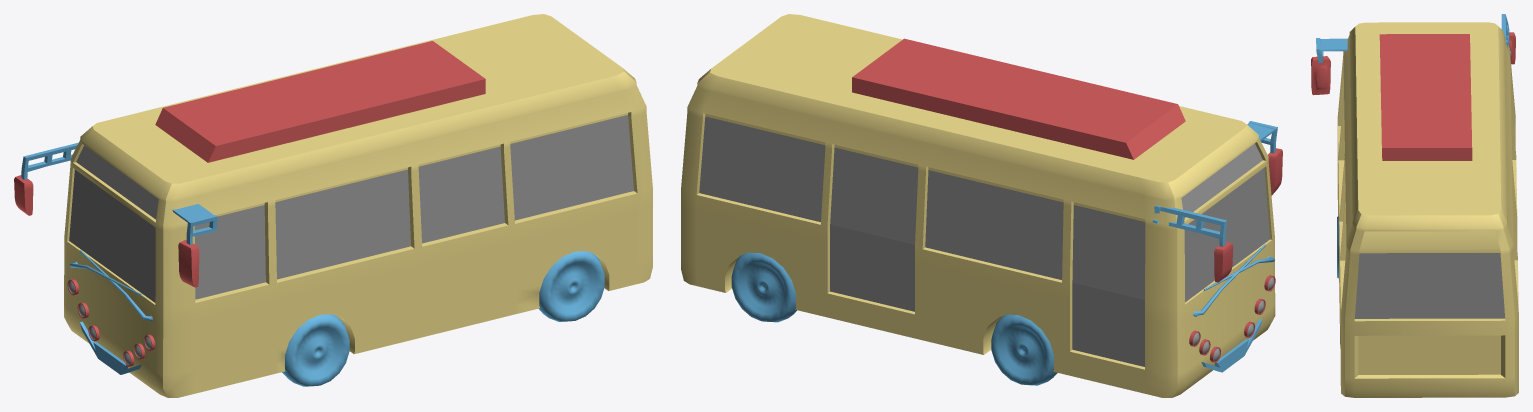
The model's file is che2.FBX.
3 views of the same model, side by side, from view 1: azimuth 30°, elevation 25°; view 2: azimuth 150°, elevation 25°; view 3: azimuth 270°, elevation 25° (orthographic). The views are drawn at different scales.
Visible parts, largest first — view 1: newbus13, 对象019, newbus12, newbus07, newbus11, newbus10, newbus00, newbus06, newbus05; view 2: newbus13, 对象019, newbus12, newbus07, newbus11, newbus10, newbus00, newbus06, newbus05; view 3: newbus13, newbus12, 对象019, newbus10, newbus11.
Part boxes in pixels (<box>): newbus13: <box>64,14,652,397</box>; 对象019: <box>69,115,633,302</box>; newbus12: <box>155,41,485,162</box>; newbus07: <box>282,251,604,386</box>; newbus11: <box>21,142,217,244</box>; newbus10: <box>14,175,199,287</box>; newbus00: <box>79,321,141,374</box>; newbus06: <box>67,279,155,366</box>; newbus05: <box>69,250,152,321</box>; newbus13: <box>681,14,1275,397</box>; 对象019: <box>699,116,1269,366</box>; newbus12: <box>852,38,1185,159</box>; newbus07: <box>731,252,1057,385</box>; newbus11: <box>1152,121,1277,246</box>; newbus10: <box>1214,148,1282,282</box>; newbus00: <box>1201,318,1262,372</box>; newbus06: <box>1189,275,1275,362</box>; newbus05: <box>1193,244,1274,316</box>; newbus13: <box>1337,22,1518,397</box>; newbus12: <box>1379,34,1472,160</box>; 对象019: <box>1344,154,1505,318</box>; newbus10: <box>1311,32,1515,95</box>; newbus11: <box>1316,14,1511,62</box>.
Bounding box in the file's own units: 7.14 × 3.08 × 2.74.
